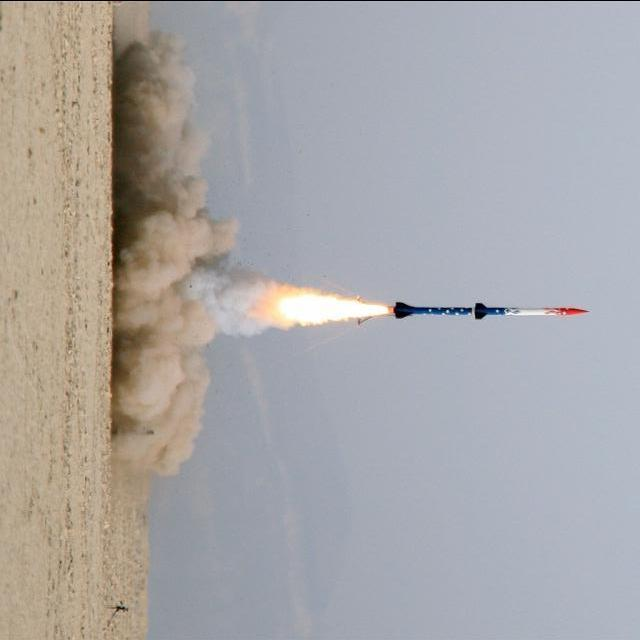missile: (392, 299, 594, 326)
